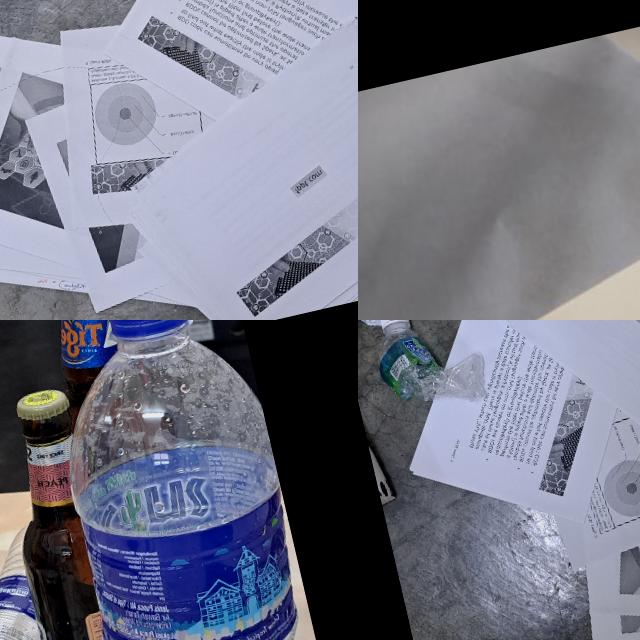garrafa de vidro: (0, 385, 146, 640), (28, 320, 142, 429)
garrafa plástica: (33, 320, 346, 640), (370, 320, 490, 420), (0, 525, 71, 640)
papel: (0, 0, 358, 320), (358, 320, 640, 640), (358, 4, 640, 320)
tampa plástica: (100, 320, 193, 342), (378, 320, 409, 331)
